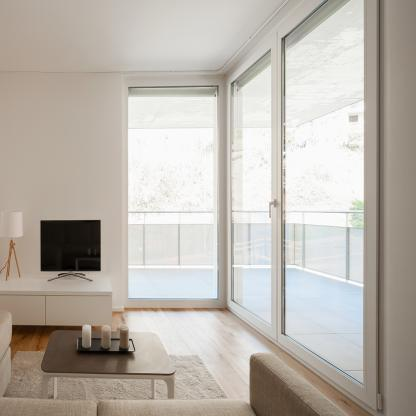Window: (227, 0, 379, 413), (122, 75, 227, 311)
Wooden floor: (125, 310, 365, 416)
